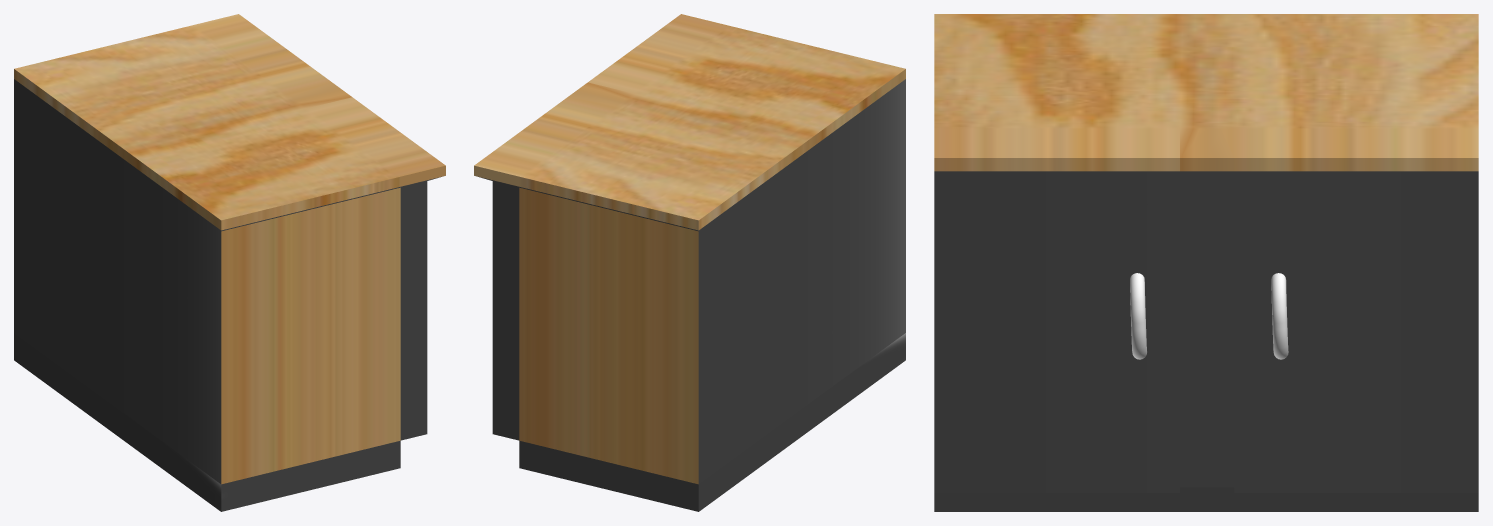
Rendered from SzafkaKuchZBlat.fbx.
3 views of the same model, side by side, from view 1: azimuth 30°, elevation 25°; view 2: azimuth 150°, elevation 25°; view 3: azimuth 270°, elevation 25° (orthographic). The views are drawn at different scales.
Visible parts, largest first — view 1: Cube; view 2: Cube; view 3: Cube, Cylinder.001, Cylinder.
Boxes of the visible parts, bbox=[...] form: Cube: bbox=[14, 14, 445, 511]; Cube: bbox=[474, 14, 905, 511]; Cube: bbox=[934, 14, 1478, 511]; Cylinder.001: bbox=[1271, 273, 1288, 359]; Cylinder: bbox=[1130, 273, 1146, 359].
Bounding box in the file's own units: 251 × 311 × 400.
